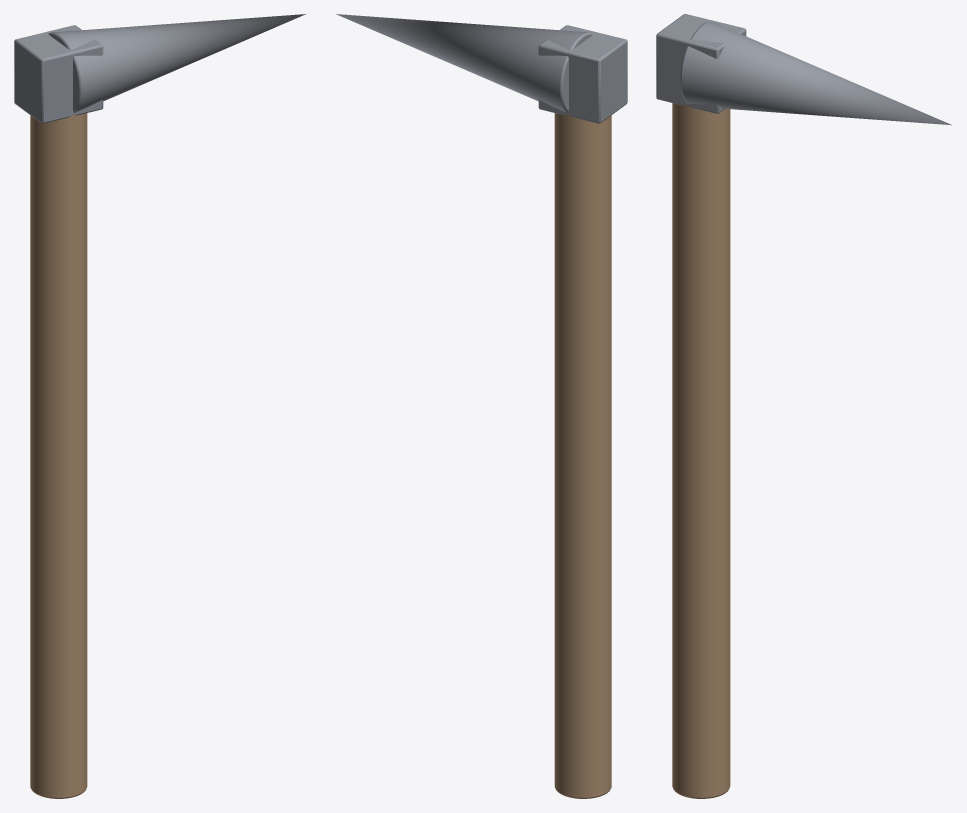
The model's file is SM_EQP_PICKAXE_T2.fbx.
3 views of the same model, side by side, from view 1: azimuth 30°, elevation 25°; view 2: azimuth 150°, elevation 25°; view 3: azimuth 330°, elevation 25° (orthographic).
Parts seen in each view (by area): view 1: SM_EQP_PICKAXE_T2; view 2: SM_EQP_PICKAXE_T2; view 3: SM_EQP_PICKAXE_T2.
Boxes of the visible parts, <box> form: SM_EQP_PICKAXE_T2: <box>14,14,305,798</box>; SM_EQP_PICKAXE_T2: <box>336,14,627,798</box>; SM_EQP_PICKAXE_T2: <box>656,14,951,798</box>.
Size of what is drawn, in the model's own units: 0.225 by 0.5798 by 0.0596.
